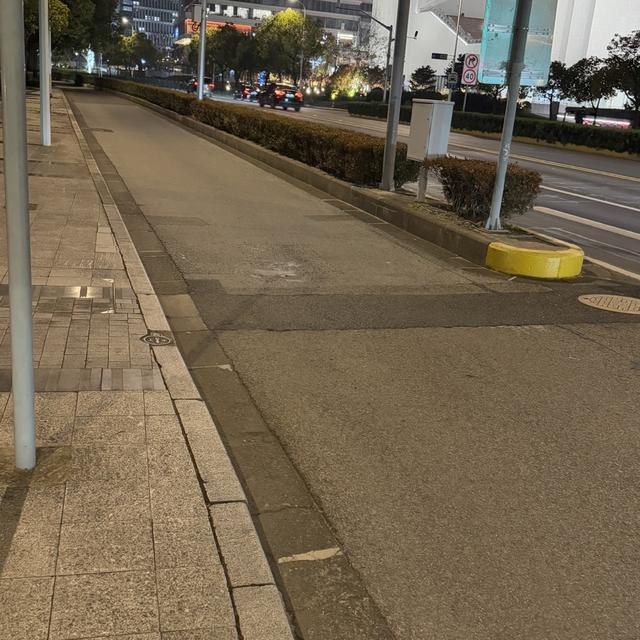curb: (66, 99, 293, 639), (110, 90, 489, 267), (486, 242, 583, 277), (515, 136, 639, 161), (454, 130, 499, 139)
